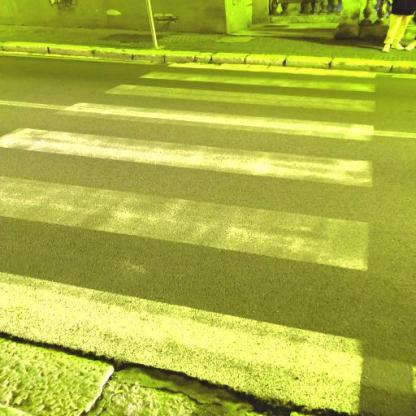crosswalk: (51, 81, 384, 144)
